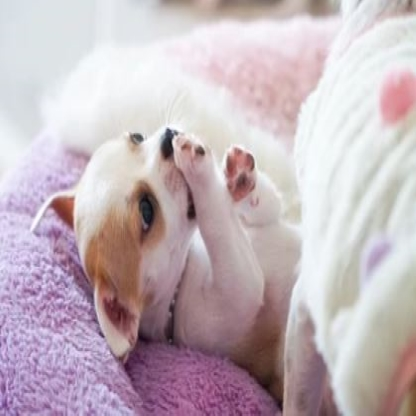chihuahua: (29, 114, 304, 383)
